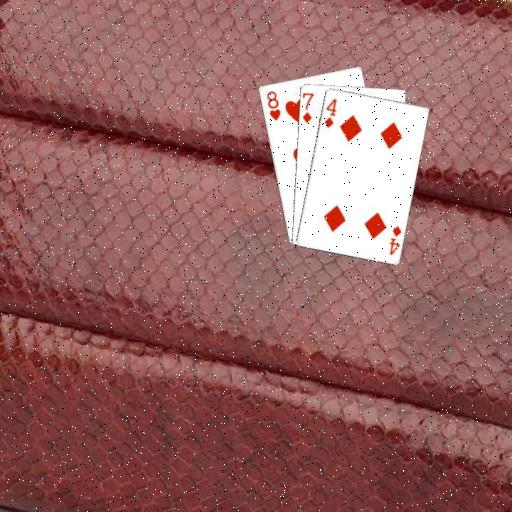4D: (321, 95, 338, 129), (387, 223, 403, 257)
7D: (299, 90, 315, 125)
8H: (264, 88, 282, 123)
